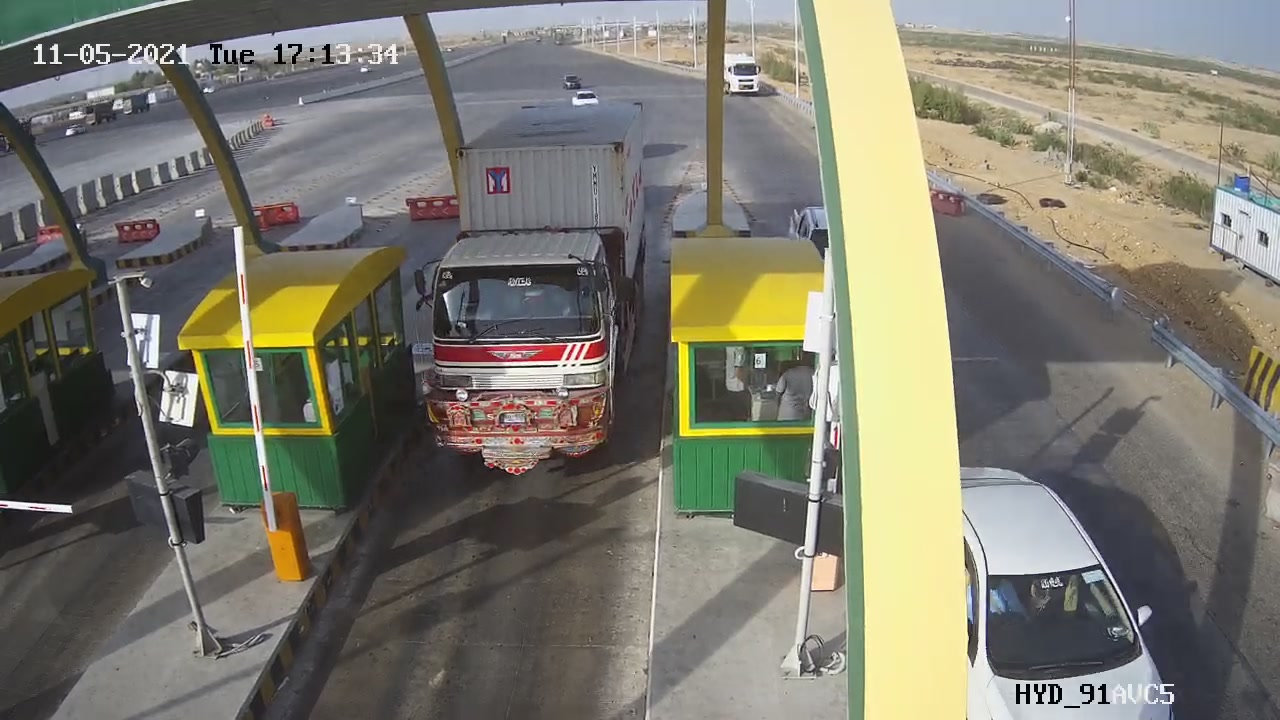F6: (378, 90, 664, 501)
